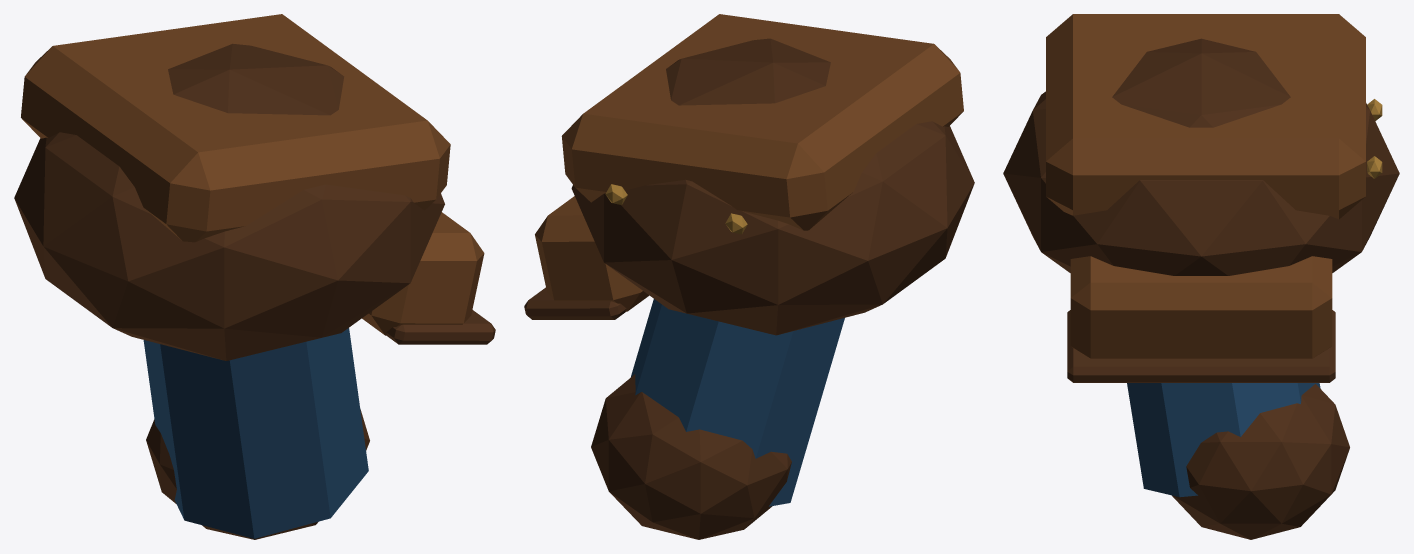
File: ArmRight.glb
3 views of the same model, side by side, from view 1: azimuth 30°, elevation 25°; view 2: azimuth 150°, elevation 25°; view 3: azimuth 270°, elevation 25° (orthographic). The views are drawn at different scales.
Visible parts, largest first — view 1: Sculpture; view 2: Sculpture; view 3: Sculpture.
Boxes of the visible parts, x1=… form: Sculpture: x1=14, y1=14, x2=495, y2=539; Sculpture: x1=524, y1=14, x2=974, y2=539; Sculpture: x1=1003, y1=14, x2=1399, y2=539.
Bounding box in the file's own units: 0.4475 × 0.552 × 0.44.
